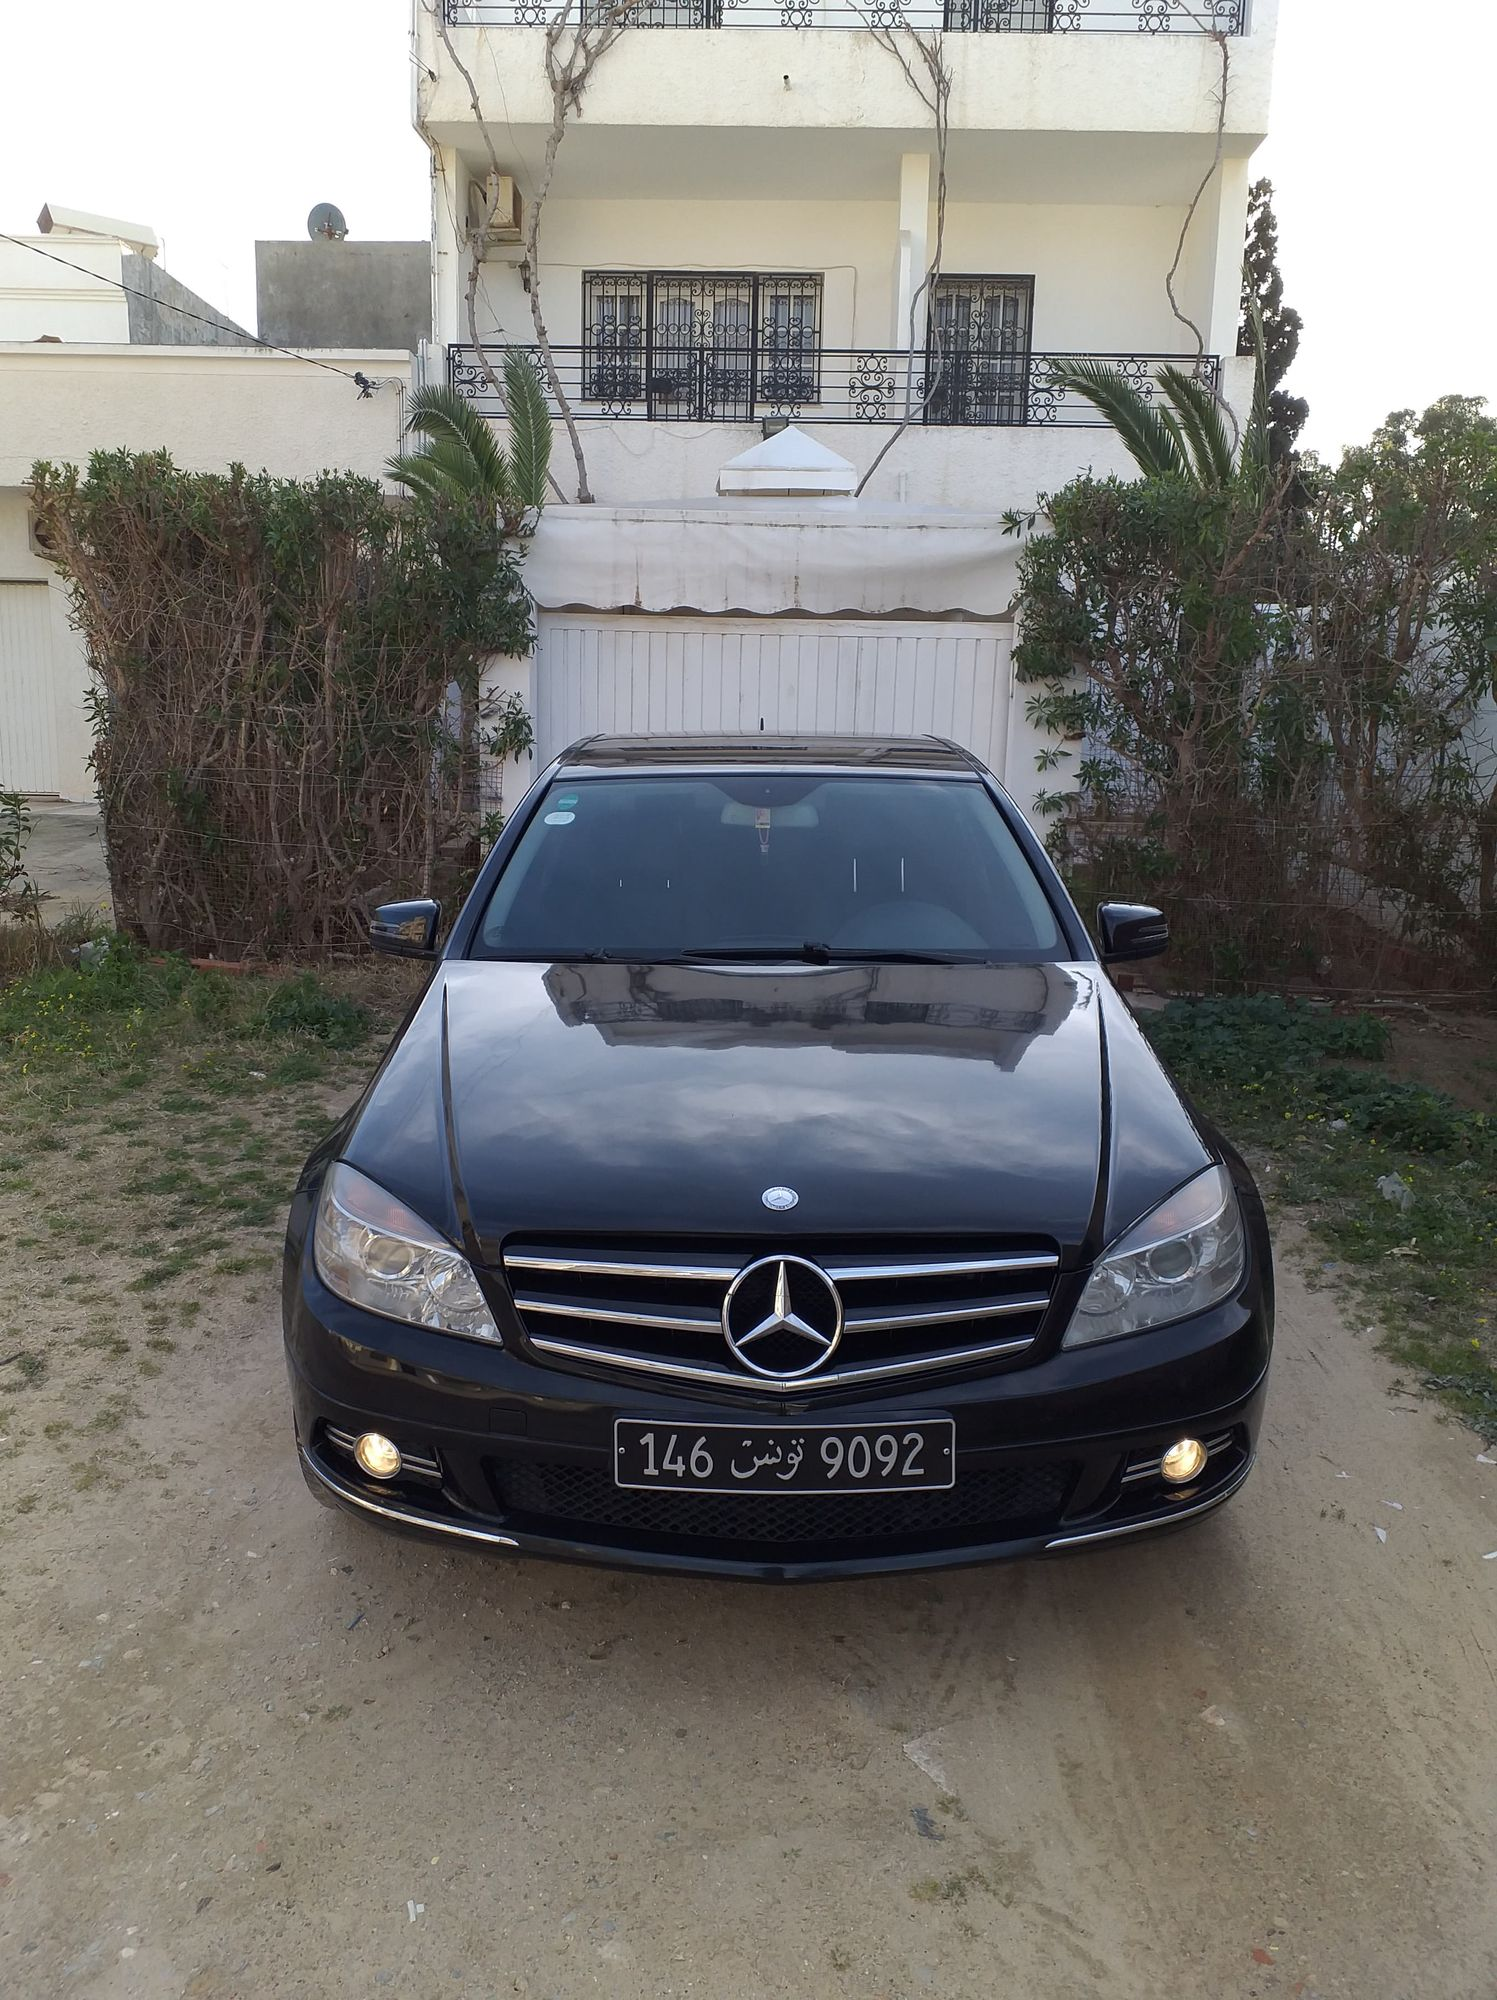LP: (609, 1414, 960, 1493)
